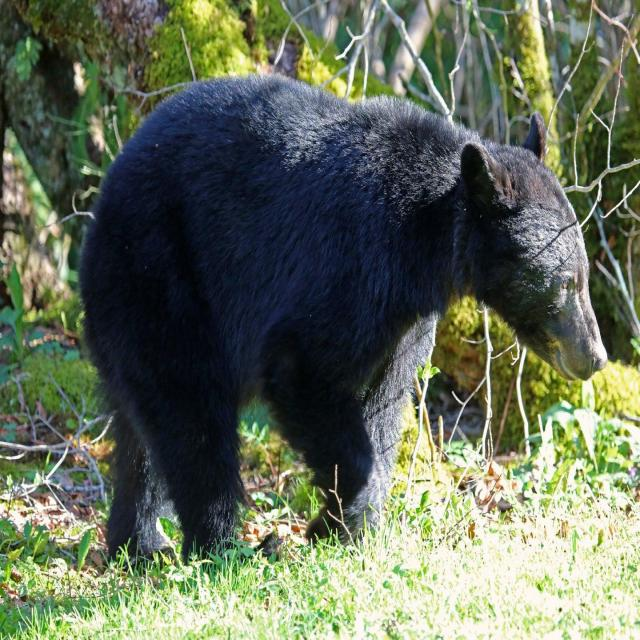Bear: (77, 74, 610, 563)
